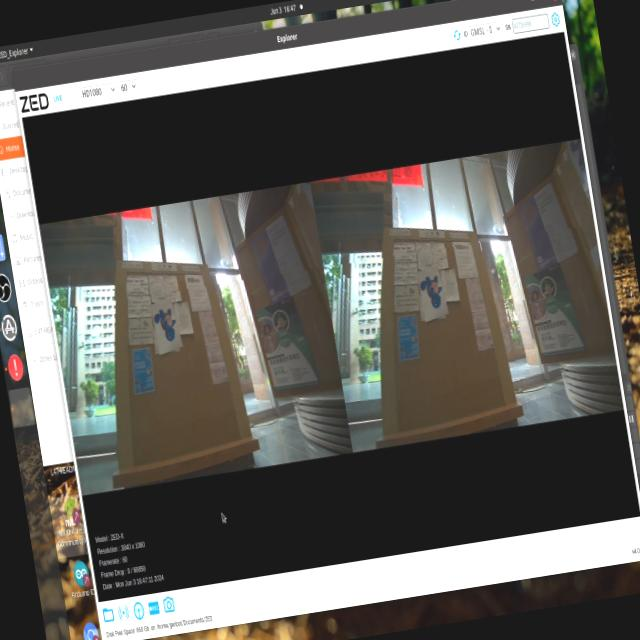blue: (415, 263, 446, 308), (153, 306, 180, 344)
